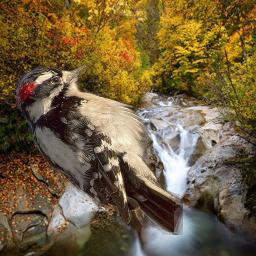Woodpecker: (16, 63, 183, 235)
